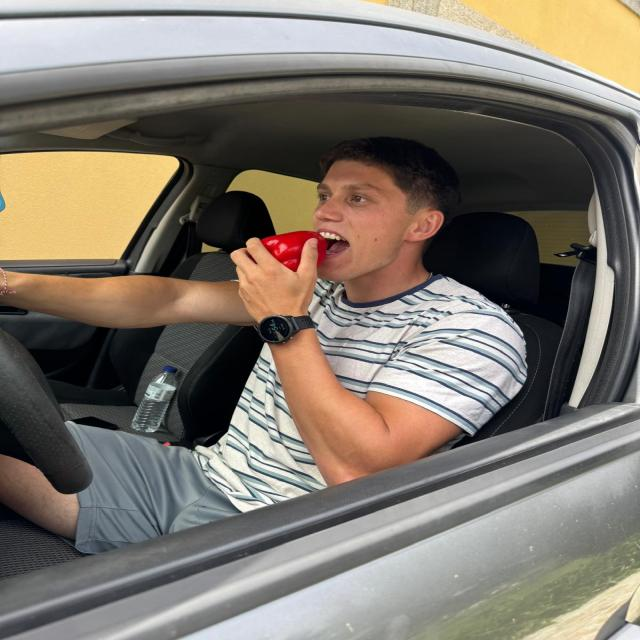Eating: (242, 206, 344, 299)
